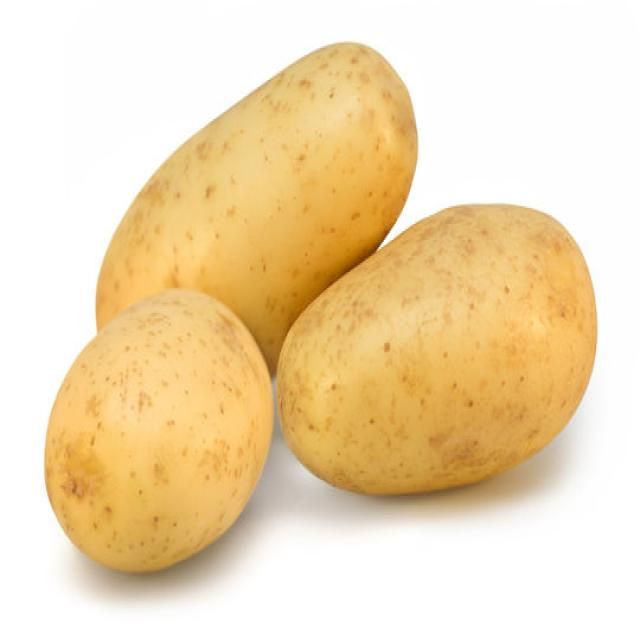Potato: (94, 39, 418, 377), (275, 199, 597, 496), (42, 286, 274, 572)
